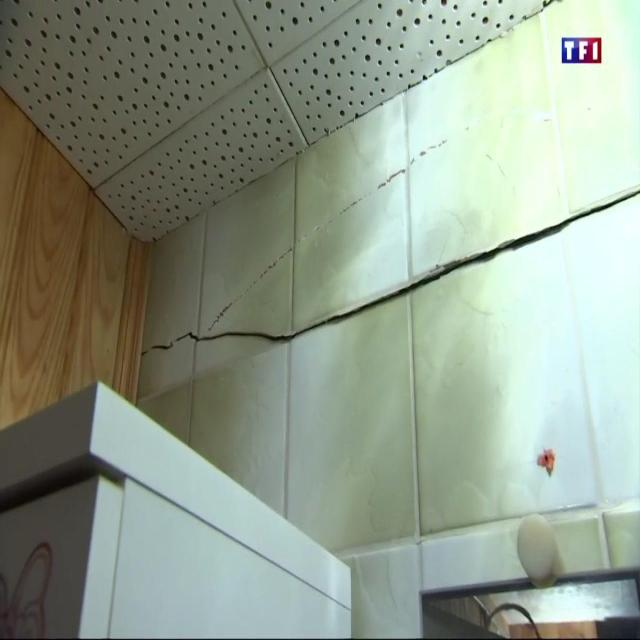crack: (140, 187, 640, 355)
